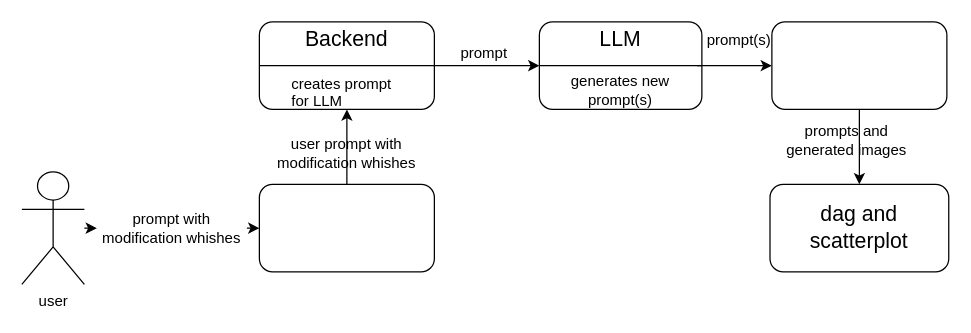
The diagram is 971 pixels wide and 333 high, and some of its shapes have lost their labels. Each missing label, with the centre of its shape:
Image generation model: the point at 859,65
Prompt Input field: the point at 346,227
